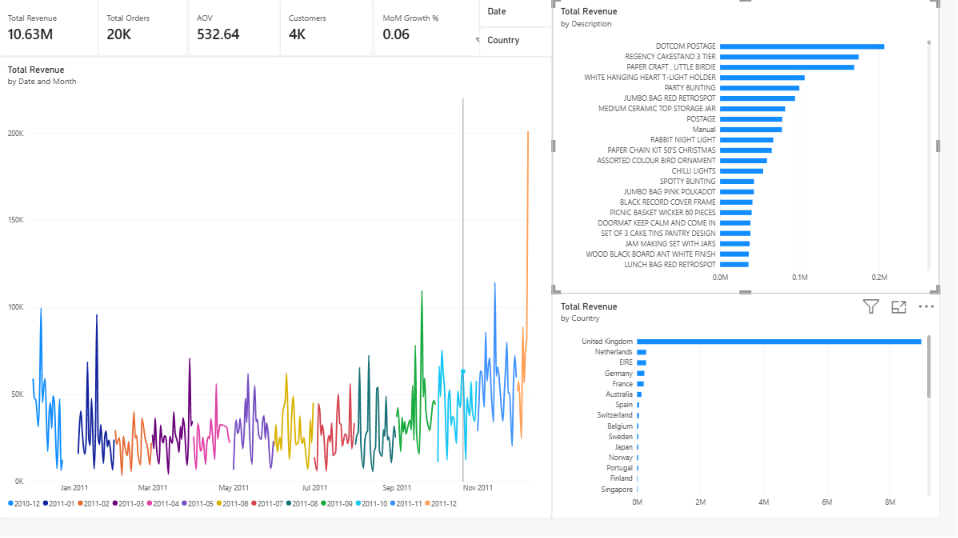

Layout of this report page (visuals, bound fields, positions):
{"tool":"powerbi","page":{"name":"Page 1","canvas":[1920,1080],"ordinal":0},"visuals":[{"type":"cardVisual","fields":{"Data":["Sales.Total Revenue"]},"box":[0,0,198.6,115.7],"z":0},{"type":"cardVisual","fields":{"Data":["Sales.Total Orders"]},"box":[198.6,0,178.6,115.7],"z":1},{"type":"cardVisual","fields":{"Data":["Sales.AOV"]},"box":[378.6,0,184.3,115.7],"z":2},{"type":"cardVisual","fields":{"Data":["Sales.Customers"]},"box":[562.9,0,184.3,115.7],"z":3},{"type":"cardVisual","fields":{"Data":["Sales.MoM Growth %"]},"box":[750,0,210,115.7],"z":4},{"type":"lineChart","fields":{"Category":["DimDate.Date"],"Series":["DimDate.Month"],"Y":["Sales.Total Revenue"]},"box":[0,115,1105,925],"z":5},{"type":"barChart","fields":{"Category":["Sales.Description"],"Y":["Sales.Total Revenue"]},"box":[1105,0,775,590],"z":6},{"type":"barChart","fields":{"Category":["Sales.Country"],"Y":["Sales.Total Revenue"]},"box":[1105,590,775,450],"z":7},{"type":"listSlicer","fields":{"Values":["Sales.Country"]},"box":[960,57.1,145.7,58.6],"z":8},{"type":"listSlicer","fields":{"Values":["DimDate.Date"]},"box":[960,0,145.7,57.1],"z":9}]}

Visuals, with their boxes in screenshot pixels (x1, y1, x2, y2), scaled from the page's 1920x1080 canvas onto the 958x538 screenshot:
cardVisual - Sales.Total Revenue: pyautogui.locateOnScreen(0, 0, 99, 58)
cardVisual - Sales.Total Orders: pyautogui.locateOnScreen(99, 0, 188, 58)
cardVisual - Sales.AOV: pyautogui.locateOnScreen(189, 0, 281, 58)
cardVisual - Sales.Customers: pyautogui.locateOnScreen(281, 0, 373, 58)
cardVisual - Sales.MoM Growth %: pyautogui.locateOnScreen(374, 0, 479, 58)
lineChart - DimDate.Date x DimDate.Month: pyautogui.locateOnScreen(0, 57, 551, 518)
barChart - Sales.Description x Sales.Total Revenue: pyautogui.locateOnScreen(551, 0, 938, 294)
barChart - Sales.Country x Sales.Total Revenue: pyautogui.locateOnScreen(551, 294, 938, 518)
listSlicer - Sales.Country: pyautogui.locateOnScreen(479, 28, 552, 58)
listSlicer - DimDate.Date: pyautogui.locateOnScreen(479, 0, 552, 28)
